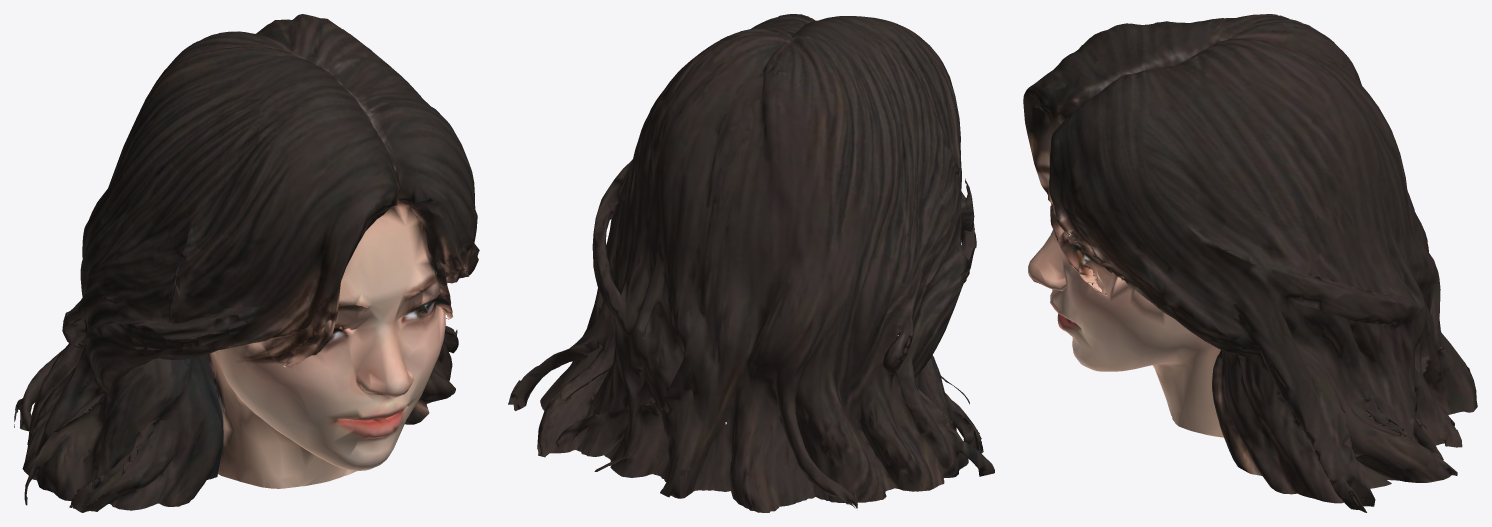
The model's file is patient11.glb.
The picture shows the model from 3 angles, left to right: view 1: azimuth 30°, elevation 25°; view 2: azimuth 150°, elevation 25°; view 3: azimuth 270°, elevation 25°; orthographic projection. The views are drawn at different scales.
Visible parts, largest first — view 1: patient11; view 2: patient11; view 3: patient11.
Part boxes in pixels (x1=…): patient11: x1=14, y1=14, x2=479, y2=512; patient11: x1=508, y1=14, x2=994, y2=512; patient11: x1=1023, y1=14, x2=1477, y2=512.
Bounding box in the file's own units: 0.3026 × 0.2484 × 0.2703.
1 material, 1 textured.
